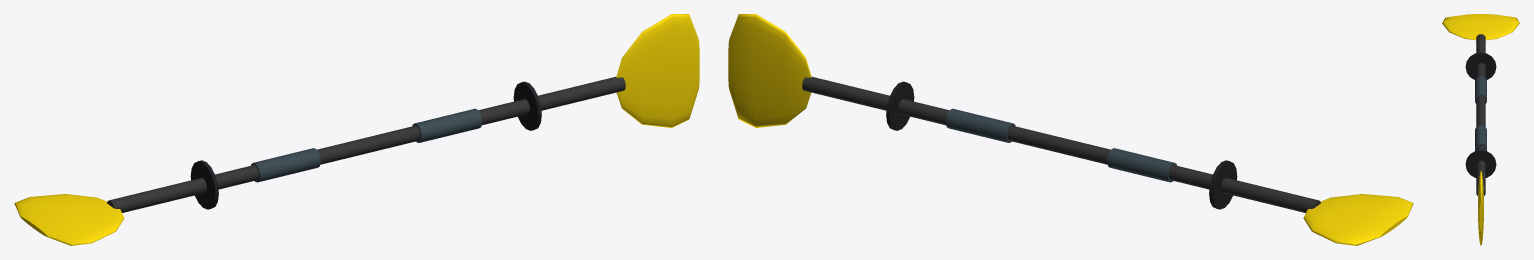
Rendered from paddle.fbx.
The picture shows the model from 3 angles, left to right: view 1: azimuth 30°, elevation 25°; view 2: azimuth 150°, elevation 25°; view 3: azimuth 270°, elevation 25°; orthographic projection. The views are drawn at different scales.
Visible parts, largest first — view 1: Kayak Paddle; view 2: Kayak Paddle; view 3: Kayak Paddle.
Boxes of the visible parts, <box> form: Kayak Paddle: <box>14,14,699,245</box>; Kayak Paddle: <box>728,14,1413,245</box>; Kayak Paddle: <box>1442,14,1519,245</box>.
Size of the model in its own units: 4.94 by 0.81 by 0.81.
